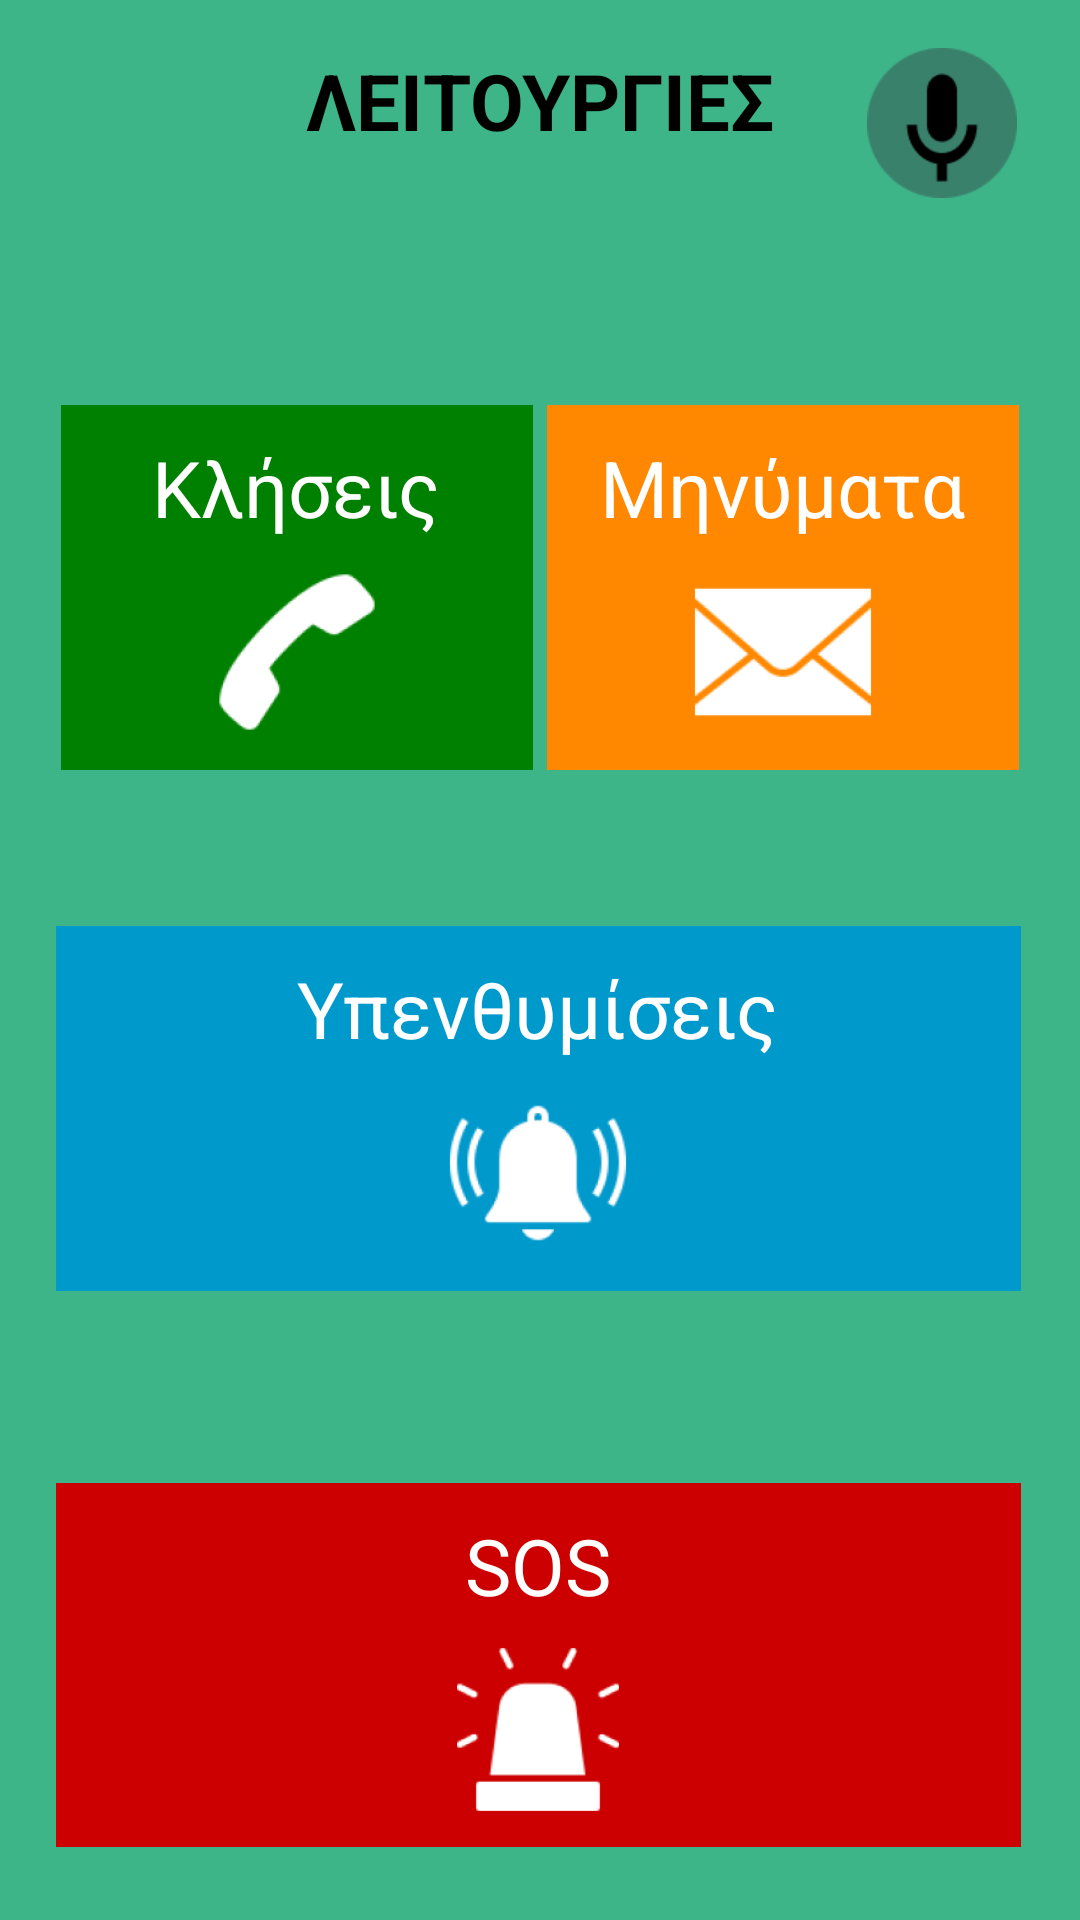

Point at icon controls on the screen. Image size 1080*1920, points as point (x, y).
call menu: point (297, 652)
Μικρόφωνο: point (942, 123)
